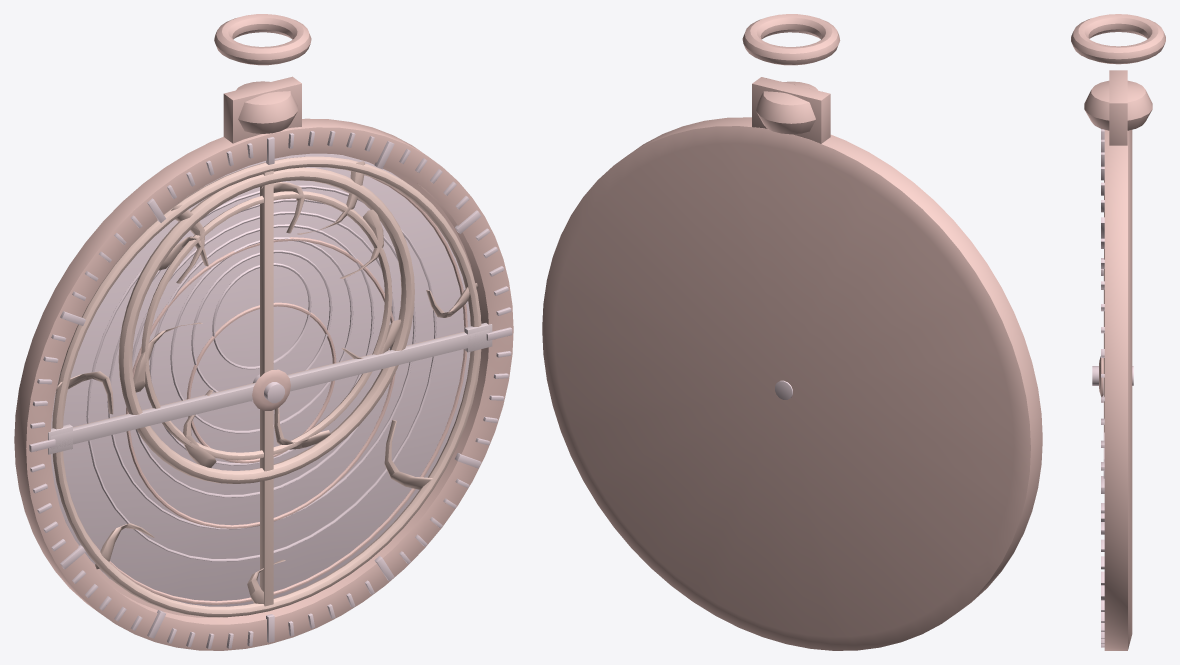
Rendered from astrolabe.glb.
The picture shows the model from 3 angles, left to right: view 1: azimuth 30°, elevation 25°; view 2: azimuth 150°, elevation 25°; view 3: azimuth 270°, elevation 25°; orthographic projection. The views are drawn at different scales.
Parts seen in each view (by area): view 1: astrolabe; view 2: astrolabe; view 3: astrolabe.
Part boxes in pixels (x1=…): astrolabe: x1=14, y1=14, x2=513, y2=650; astrolabe: x1=542, y1=14, x2=1042, y2=650; astrolabe: x1=1071, y1=14, x2=1165, y2=650.
Bounding box in the file's own units: 0.6 × 0.7148 × 0.1032.
